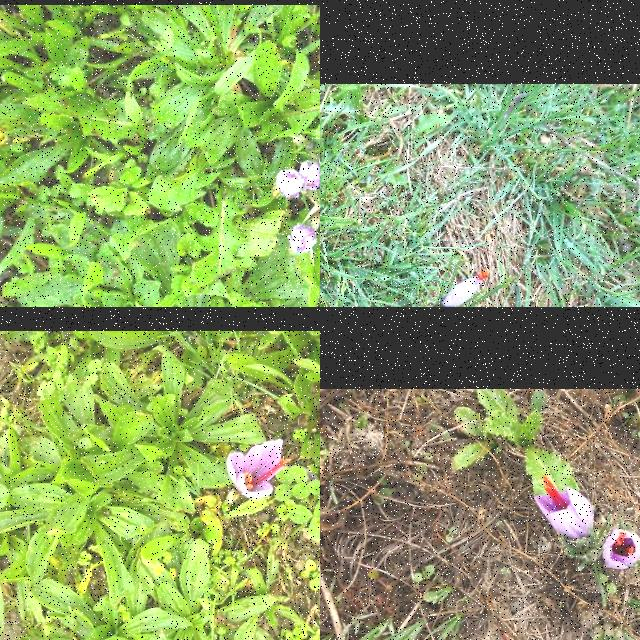flower: (226, 438, 290, 498), (534, 475, 594, 539), (444, 269, 490, 307), (602, 528, 640, 570), (288, 224, 318, 252)
overlap: (276, 149, 320, 197)
